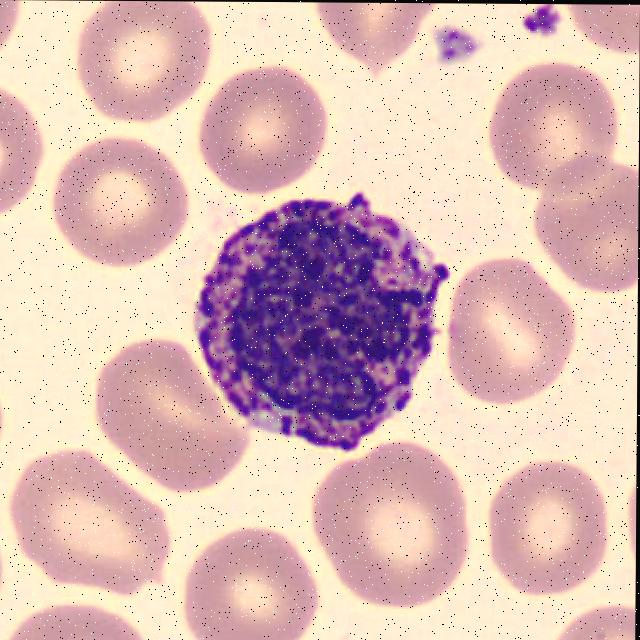basophil: (198, 203, 453, 446)
platelets: (436, 22, 484, 66), (513, 4, 570, 40)
rbc: (301, 450, 482, 607), (89, 327, 250, 496), (4, 452, 178, 592), (66, 0, 211, 133), (486, 62, 623, 201), (451, 257, 579, 402), (487, 456, 611, 603), (195, 69, 342, 192), (61, 134, 187, 265), (524, 153, 639, 296), (176, 533, 323, 640), (0, 65, 45, 256), (307, 3, 432, 68), (14, 593, 160, 640), (567, 4, 640, 50), (562, 599, 636, 640)
